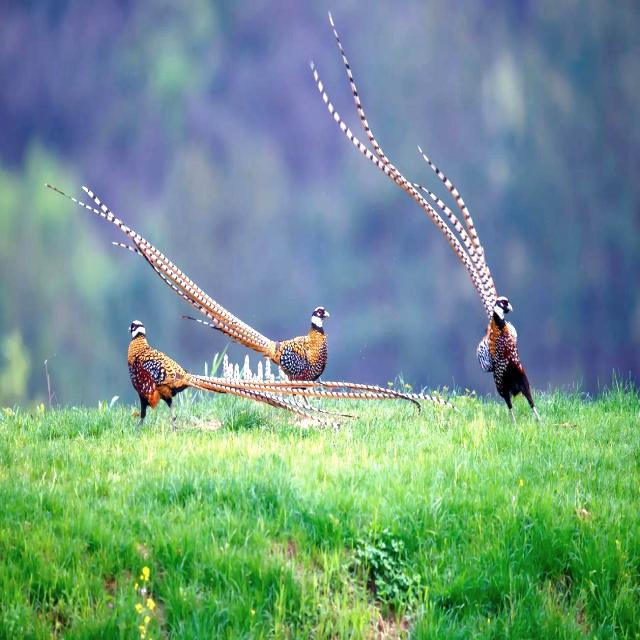Reeves-s Pheasant: (310, 10, 498, 319), (44, 183, 273, 354), (189, 373, 461, 428)
